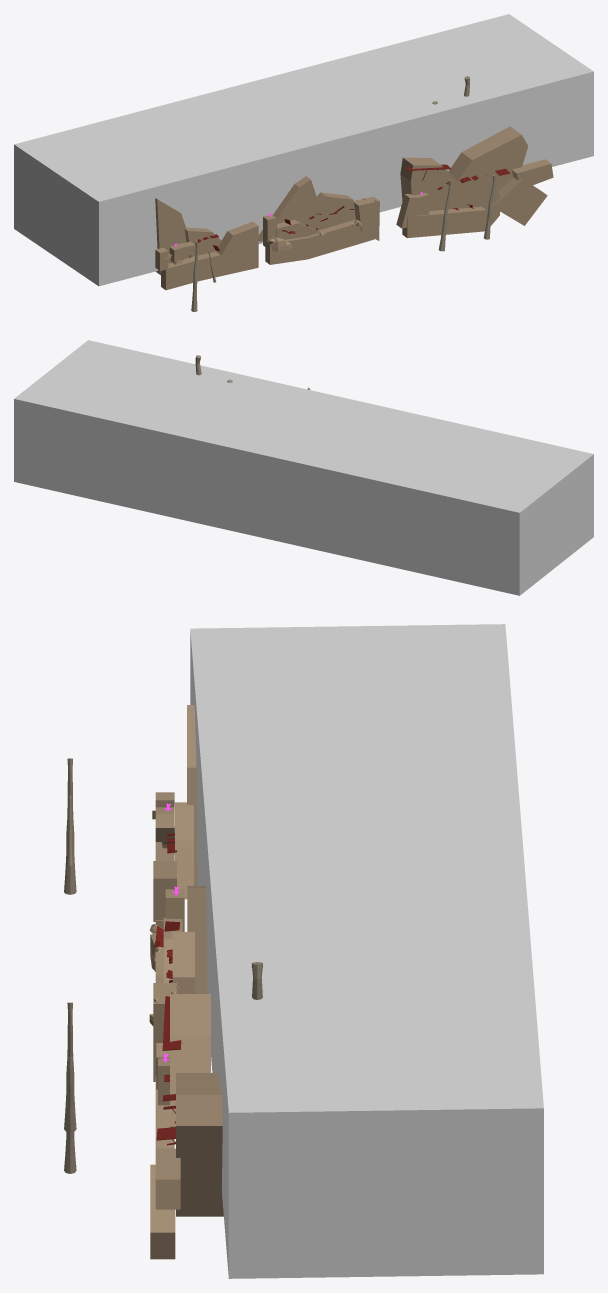
The model's file is LD白盒.fbx.
The picture shows the model from 3 angles, top to bottom: view 1: azimuth 30°, elevation 25°; view 2: azimuth 150°, elevation 25°; view 3: azimuth 270°, elevation 25°; orthographic projection. The views are drawn at different scales.
Visible parts, largest first — view 1: fog, Cube.046, Cube.023, Cube.005, Cube.041, Cube.042, Cube.052, Cube.012, Cube.014, Cube.010, Cube.009, Cube.024 (+4 smaller); view 2: fog; view 3: fog, Cube.046, Cube.041, Cube.014, Cube, Cube.052, Cube.051, Cube.012, Cube.010, Cube.009, Cube.024, Cylinder.011 (+1 smaller).
Boxes of the visible parts, x1,y1,x2,y2 form: fog: [14, 14, 593, 286]; Cube.046: [448, 126, 528, 203]; Cube.023: [265, 219, 374, 264]; Cube.005: [161, 248, 258, 290]; Cube.041: [400, 157, 468, 208]; Cube.042: [402, 191, 499, 238]; Cube.052: [492, 177, 547, 225]; Cube.012: [298, 192, 355, 230]; Cube.014: [258, 176, 317, 241]; Cube.010: [155, 198, 189, 275]; Cube.009: [216, 221, 258, 256]; Cube.024: [353, 196, 379, 240]; fog: [14, 340, 593, 595]; fog: [190, 624, 543, 1278]; Cube.046: [176, 1073, 223, 1216]; Cube.041: [170, 994, 210, 1127]; Cube.014: [187, 886, 207, 993]; Cube: [175, 802, 193, 899]; Cube.052: [150, 1164, 175, 1259]; Cube.051: [155, 1148, 180, 1209]; Cube.012: [172, 932, 194, 993]; Cube.010: [187, 705, 197, 885]; Cube.009: [153, 861, 176, 921]; Cube.024: [153, 983, 176, 1081]; Cylinder.011: [64, 1057, 76, 1173].
Size of the model in its own units: 28689 by 7553 by 11906.
